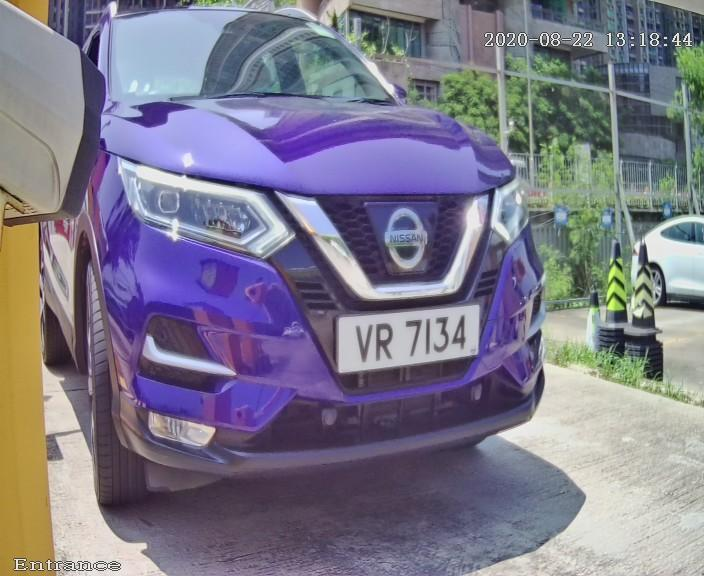Car: (29, 16, 591, 528)
License Plate: (312, 281, 503, 393)
